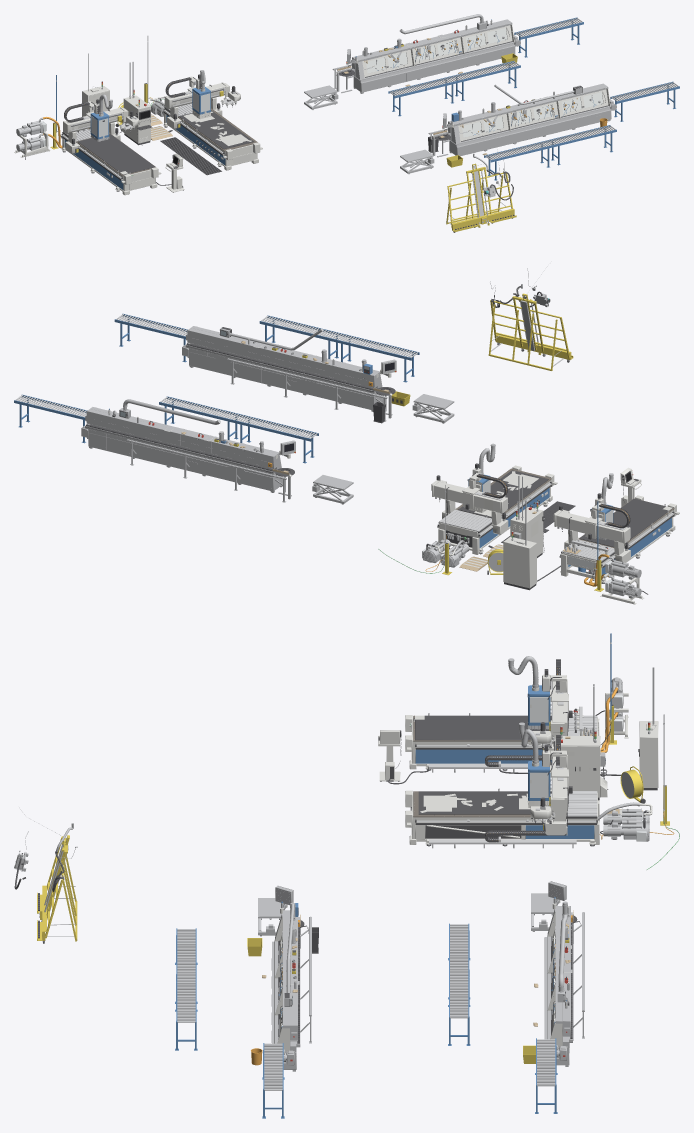
Rendered from machines.glb.
3 views of the same model, one above another, from view 1: azimuth 30°, elevation 25°; view 2: azimuth 150°, elevation 25°; view 3: azimuth 270°, elevation 25° (orthographic). The views are drawn at different scales.
Parts seen in each view (by area): view 1: EB_1_EB_Body, EB_2_EB_Body, PanelSaw_PanelSaw, CNC2_Bed, CNC1_Bed, CNC1_Spoilboard, CNC2_Gantry, CNC1_Gantry, CNC2_ElectricalCabinet, CNC2_Spoilboard, CNC1_VacuumPumps, CNC1_HeadCarriage (+20 smaller); view 2: EB_1_EB_Body, EB_2_EB_Body, PanelSaw_PanelSaw, CNC1_Bed, CNC2_Bed, CNC1_ElectricalCabinet, EB_2_EB_Dressing_EB2, CNC1_Gantry, CNC2_Gantry, CNC1_Spoilboard, CNC1_VacuumPumps, CNC2_ElectricalCabinet (+14 smaller); view 3: CNC2_Bed, EB_1_EB_Body, EB_2_EB_Body, CNC1_Bed, CNC1_Spoilboard, CNC2_ElectricalCabinet, PanelSaw_PanelSaw, CNC2_HeadCarriage, CNC2_Spoilboard, CNC1_HeadCarriage, CNC2_Gantry, CNC1_ElectricalCabinet (+15 smaller).
Boxes of the visible parts, <box> form: EB_1_EB_Body: <box>332,19,520,93</box>; EB_2_EB_Body: <box>428,83,616,156</box>; PanelSaw_PanelSaw: <box>446,163,516,232</box>; CNC2_Bed: <box>163,108,262,170</box>; CNC1_Bed: <box>61,133,161,195</box>; CNC1_Spoilboard: <box>78,133,155,174</box>; CNC2_Gantry: <box>164,82,240,129</box>; CNC1_Gantry: <box>63,107,138,153</box>; CNC2_ElectricalCabinet: <box>120,61,152,145</box>; CNC2_Spoilboard: <box>179,110,254,149</box>; CNC1_VacuumPumps: <box>14,118,50,159</box>; CNC1_HeadCarriage: <box>85,94,112,141</box>; EB_1_EB_Body: <box>81,407,291,502</box>; EB_2_EB_Body: <box>182,326,392,421</box>; PanelSaw_PanelSaw: <box>488,293,573,370</box>; CNC1_Bed: <box>559,495,679,583</box>; CNC2_Bed: <box>437,465,557,554</box>; CNC1_ElectricalCabinet: <box>503,500,536,590</box>; EB_2_EB_Dressing_EB2: <box>197,327,410,423</box>; CNC1_Gantry: <box>553,505,630,562</box>; CNC2_Gantry: <box>431,475,508,534</box>; CNC1_Spoilboard: <box>579,498,672,547</box>; CNC1_VacuumPumps: <box>600,557,648,604</box>; CNC2_ElectricalCabinet: <box>510,475,548,557</box>; CNC2_Bed: <box>405,790,599,846</box>; EB_1_EB_Body: <box>544,906,584,1066</box>; EB_2_EB_Body: <box>271,910,311,1071</box>; CNC1_Bed: <box>405,715,599,770</box>; CNC1_Spoilboard: <box>415,715,552,740</box>; CNC2_ElectricalCabinet: <box>551,684,608,800</box>; PanelSaw_PanelSaw: <box>37,835,77,943</box>; CNC2_HeadCarriage: <box>519,722,572,807</box>; CNC2_Spoilboard: <box>418,791,552,814</box>; CNC1_HeadCarriage: <box>508,656,572,729</box>; CNC2_Gantry: <box>530,754,568,835</box>; CNC1_ElectricalCabinet: <box>638,667,658,790</box>.
Bounding box in the file's own units: 25.94 × 3.31 × 18.04.
